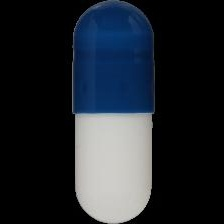69189-0022: (0, 0, 224, 224)
